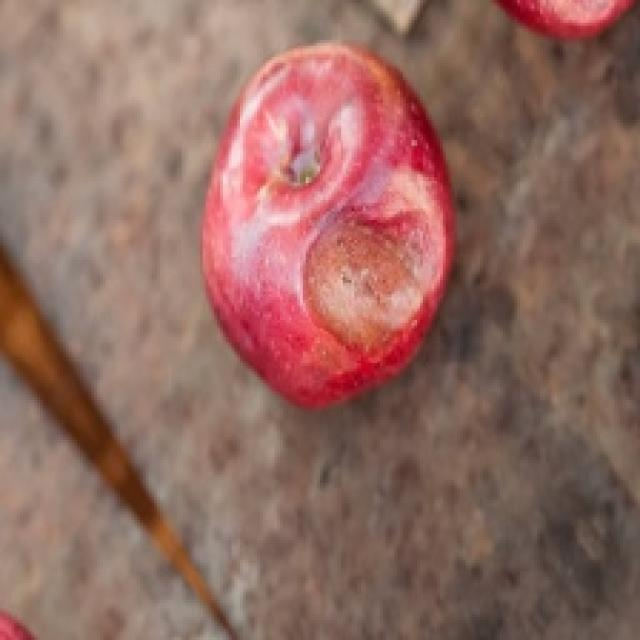rotten_apple: (201, 47, 451, 400)
